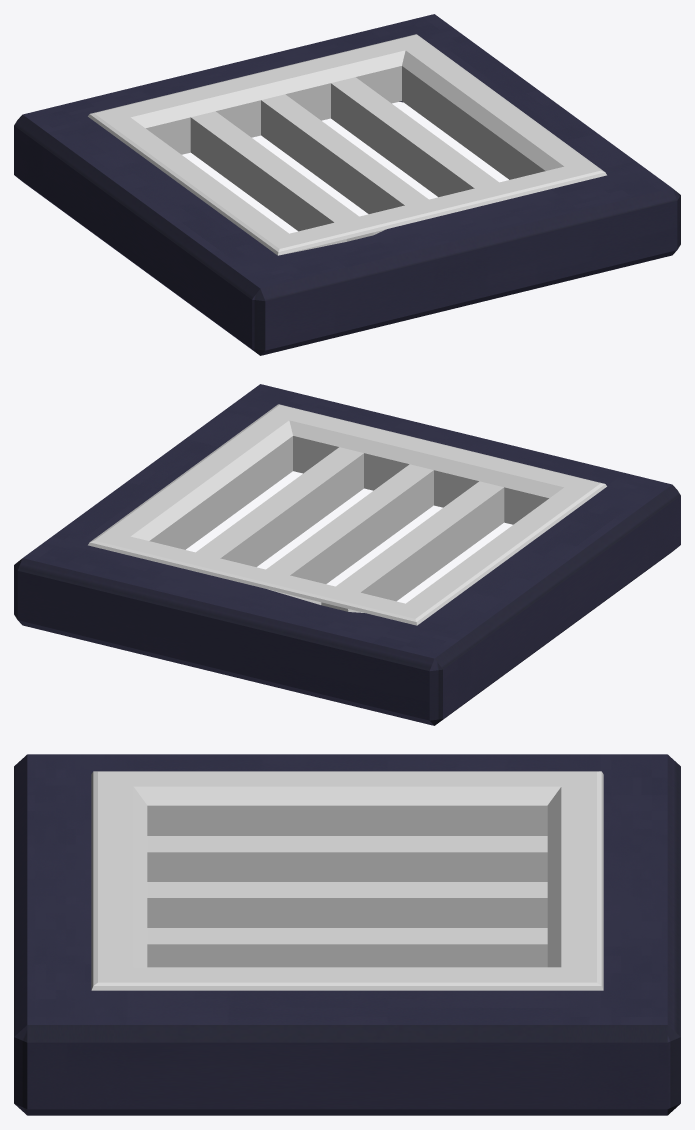
File: mangal.fbx
The picture shows the model from 3 angles, top to bottom: view 1: azimuth 30°, elevation 25°; view 2: azimuth 150°, elevation 25°; view 3: azimuth 270°, elevation 25°; orthographic projection. The views are drawn at different scales.
Visible parts, largest first — view 1: Cube.013, Cube.012; view 2: Cube.013, Cube.012; view 3: Cube.013, Cube.012.
Part boxes in pixels (x1,y1,x2,y2): Cube.013: [14, 14, 680, 355]; Cube.012: [88, 34, 606, 255]; Cube.013: [14, 384, 680, 725]; Cube.012: [88, 404, 606, 625]; Cube.013: [14, 754, 680, 1115]; Cube.012: [91, 771, 603, 990].
Size of the model in its own units: 200 by 34.15 by 200.
2 materials, 1 textured.
